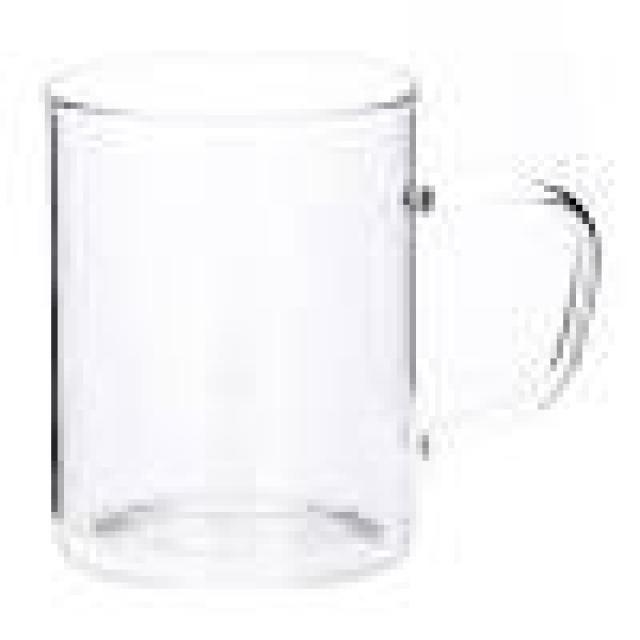Dry: (44, 55, 604, 588)
